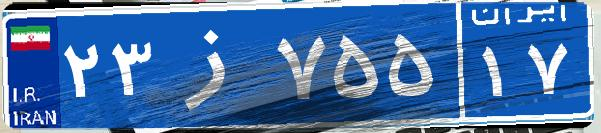1: (475, 38, 525, 113)
2: (57, 26, 110, 107)
3: (110, 28, 158, 105)
5: (385, 28, 445, 110), (330, 28, 385, 110)
7: (273, 28, 330, 110), (525, 38, 570, 115)
ز: (158, 15, 273, 115)
